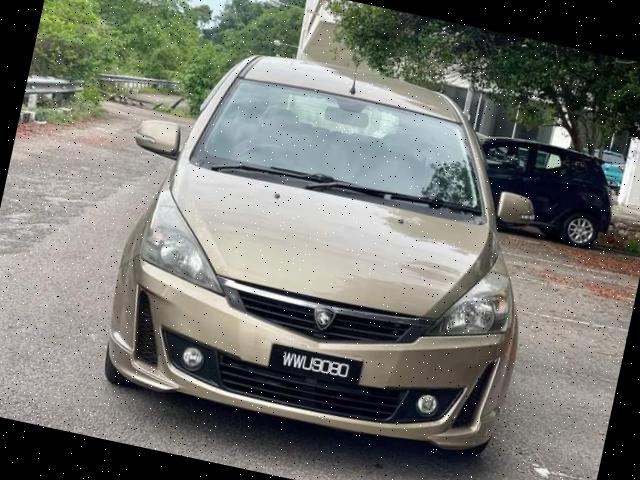License_Plate: (273, 346, 361, 388)
car: (78, 28, 568, 464)
